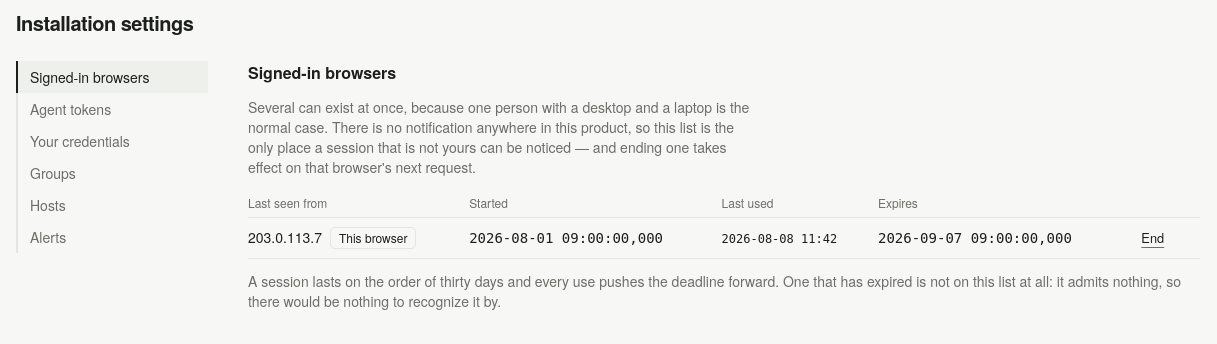
Test case: the sessions › says what ending this browser's own row does before it is done
What coordinates should you click on to do the following:
click the button "End"
I would click on:
 (1153, 238)
Its box is [1130, 224, 1175, 252].
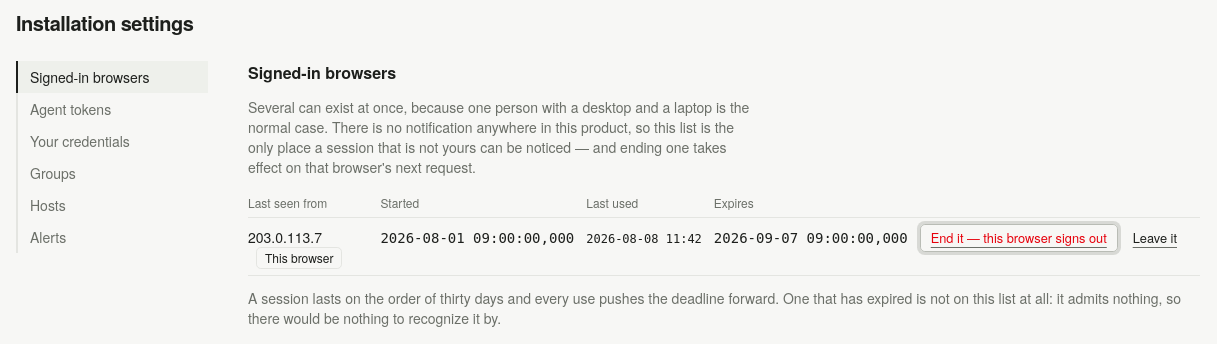
Result: the button "End it — this browser signs out" is shown at [920, 224, 1118, 252]
